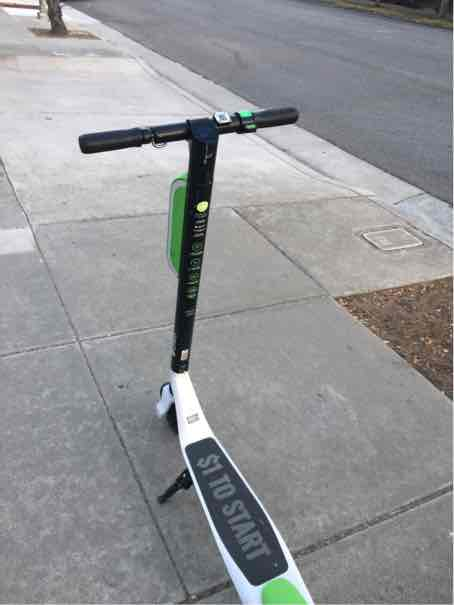scooter: (68, 99, 320, 605)
